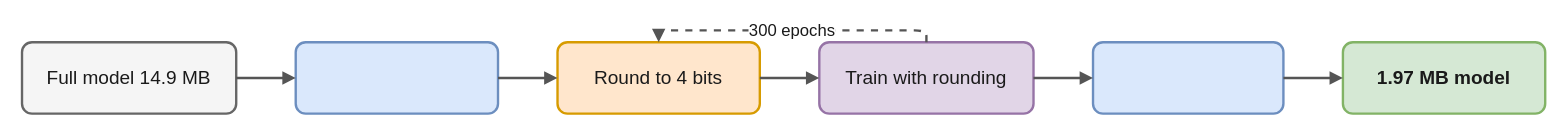
Image size: 1566x136. Some labels were removed from this diagram. Each missing label, with the centre of its shape:
Compact file: (x=1187, y=77)
Groups of 128: (x=396, y=77)
